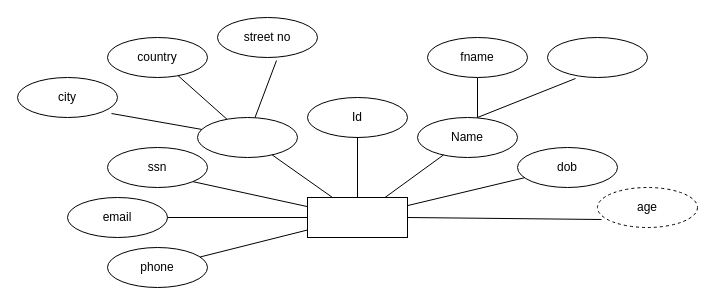
The diagram is 715 pixels wide and 305 high, and some of its shapes have lost their labels. The shapes that lost their labels are listed below. From the top down, each one's centre as x and y in pixels, then its label:
At point 597,57: "lname".
At point 247,137: "address".
At point 357,217: "user".
